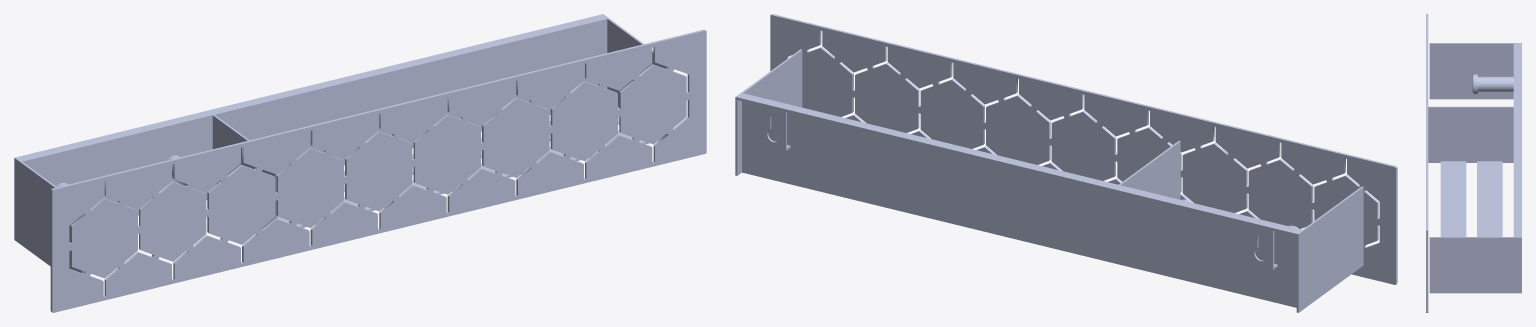
The model's file is bee-patron.57268157d8.glb.
3 views of the same model, side by side, from view 1: azimuth 30°, elevation 25°; view 2: azimuth 150°, elevation 25°; view 3: azimuth 270°, elevation 25° (orthographic). The views are drawn at different scales.
Visible parts, largest first — view 1: NAUO1; view 2: NAUO1; view 3: NAUO1.
Part boxes in pixels (x1=…): NAUO1: x1=14, y1=14, x2=706, y2=312; NAUO1: x1=735, y1=14, x2=1397, y2=312; NAUO1: x1=1426, y1=14, x2=1521, y2=312.
Bounding box in the file's own units: 0.5 × 0.09 × 0.0935.
